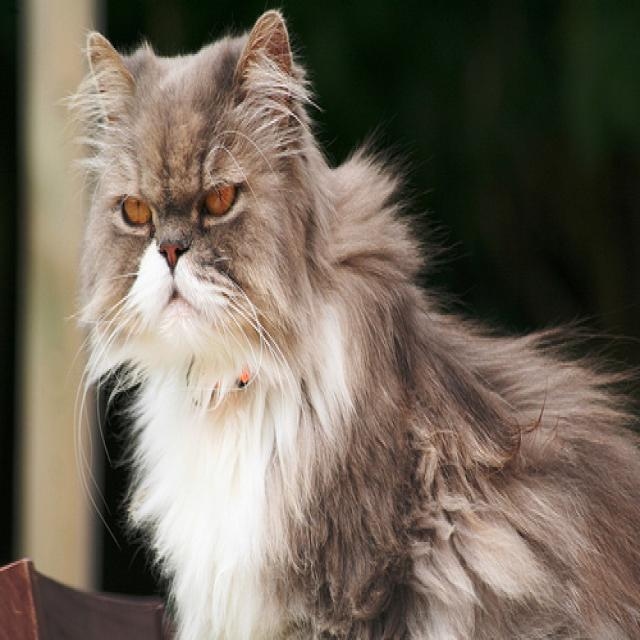Persian: (85, 8, 299, 348)
